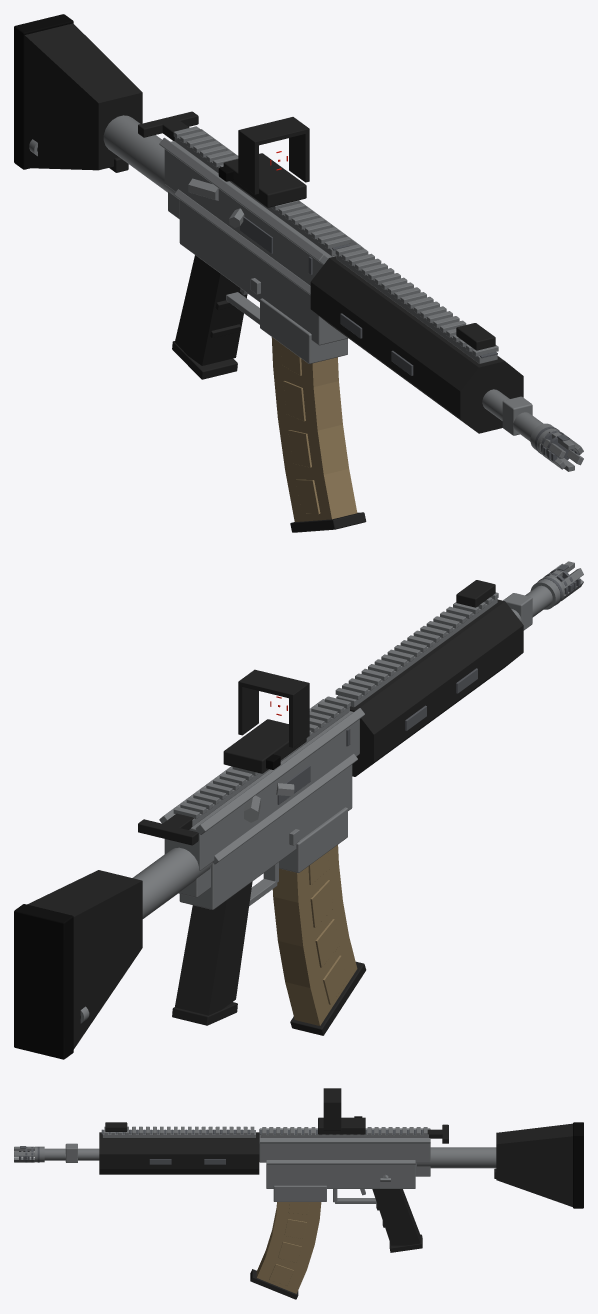
Rendered from Mpt55.obj.
The picture shows the model from 3 angles, top to bottom: view 1: azimuth 30°, elevation 25°; view 2: azimuth 150°, elevation 25°; view 3: azimuth 270°, elevation 25°; orthographic projection. The views are drawn at different scales.
Visible parts, largest first — view 1: Body, Magazine; view 2: Body, Magazine; view 3: Body, Magazine.
Part boxes in pixels (box(x1,y1,x2,y2)): Body: box(14, 14, 583, 471); Magazine: box(271, 337, 366, 532); Body: box(14, 561, 583, 1059); Magazine: box(272, 845, 366, 1035); Body: box(14, 1088, 583, 1252); Magazine: box(250, 1202, 321, 1299).
Size of the model in its own units: 0.0618 by 0.3244 by 0.836.
